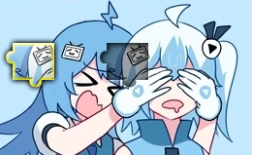gap: (100, 43, 148, 87)
